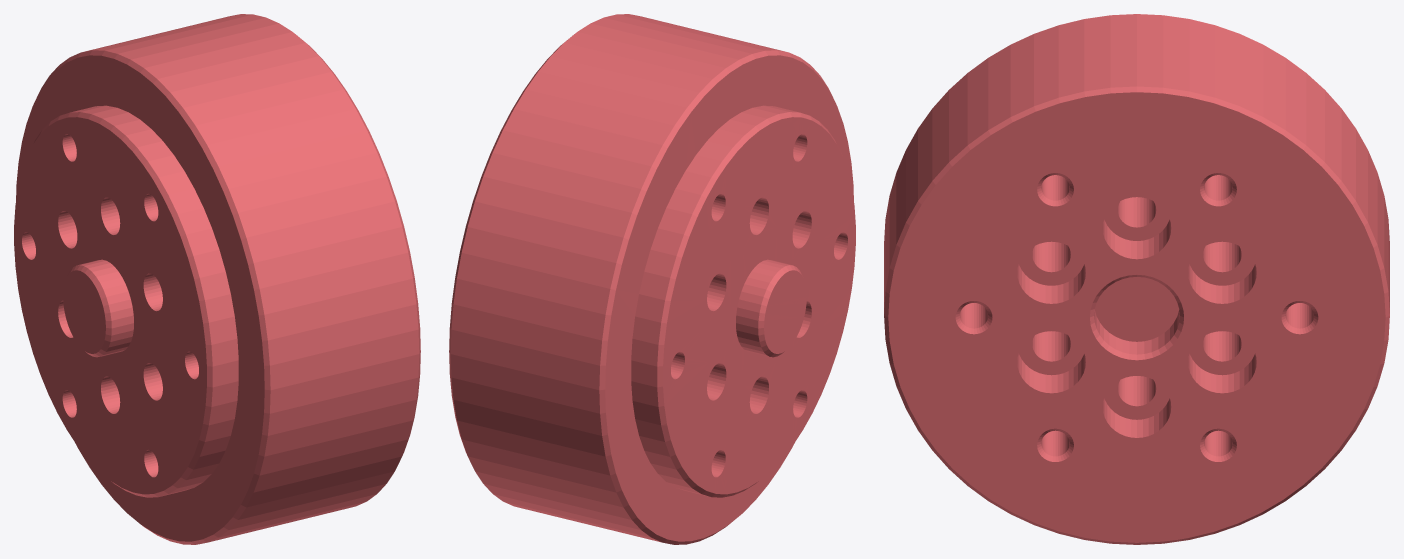
3 views of the same model, side by side, from view 1: azimuth 30°, elevation 25°; view 2: azimuth 150°, elevation 25°; view 3: azimuth 270°, elevation 25° (orthographic).
Parts seen in each view (by area): view 1: za_robot_flange; view 2: za_robot_flange; view 3: za_robot_flange.
Part boxes in pixels (x1,y1,x2,y2): za_robot_flange: (14,14,420,544); za_robot_flange: (449,14,855,544); za_robot_flange: (884,14,1389,544).
Size of the model in its own units: 0.0285 by 0.059 by 0.059.
